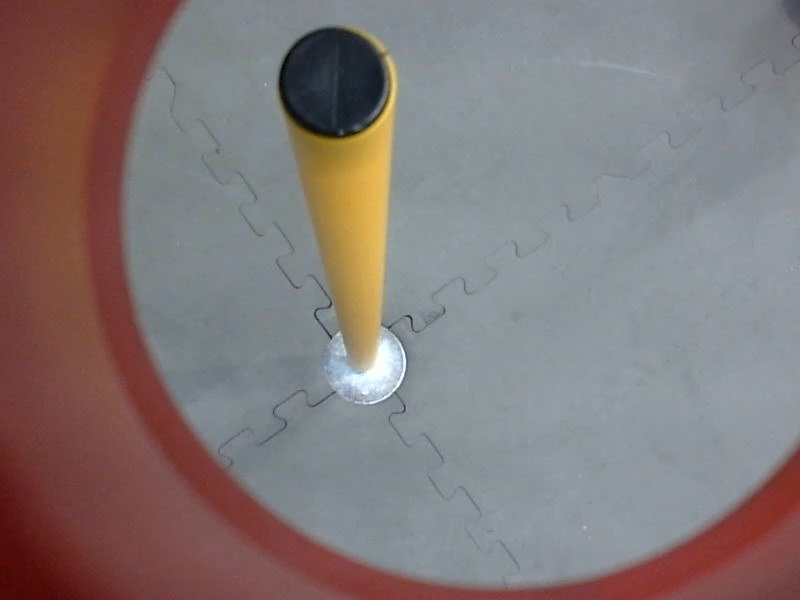tip: (273, 14, 397, 145)
